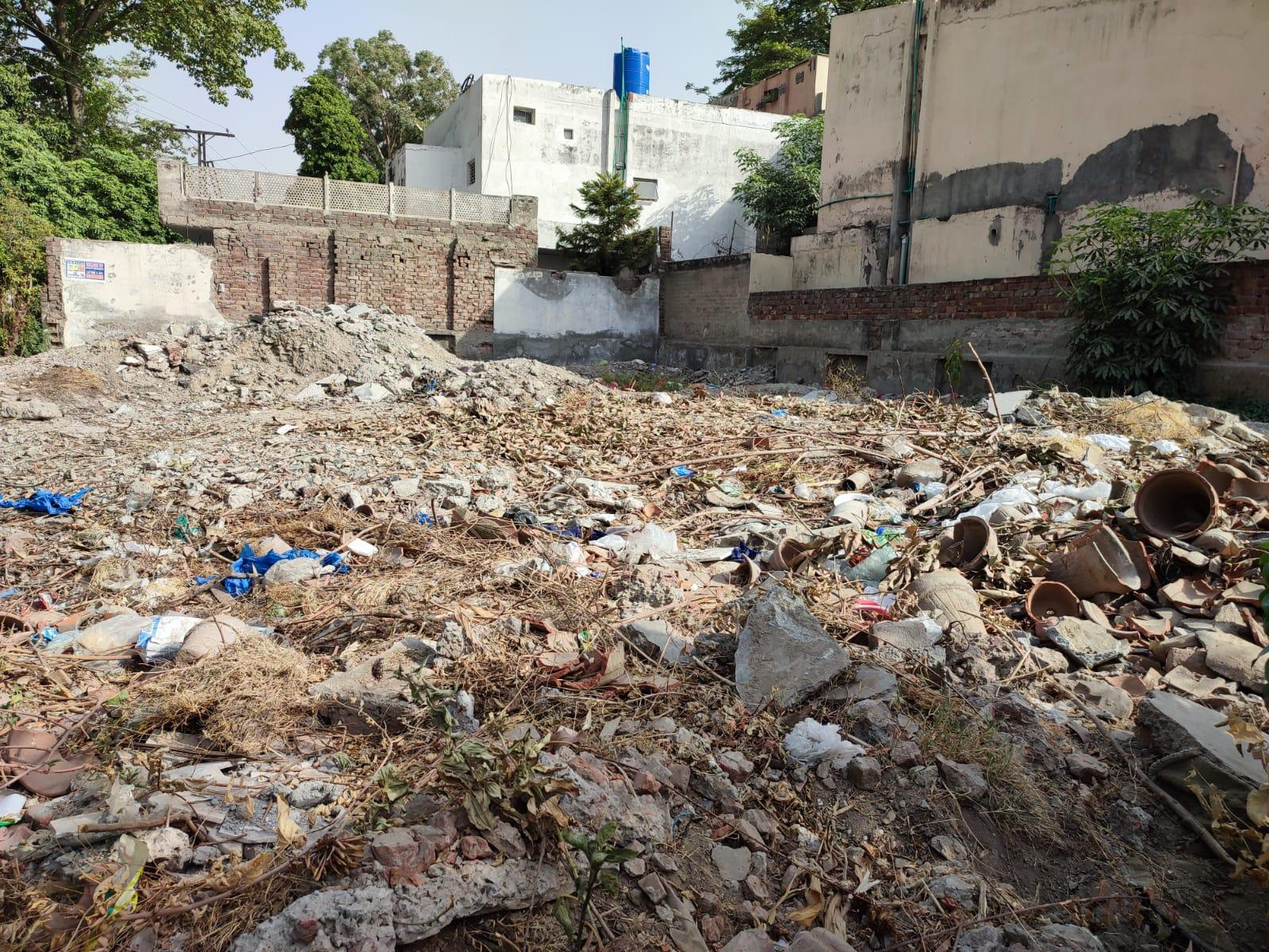garbage: (590, 405, 1269, 843), (23, 455, 391, 668)
